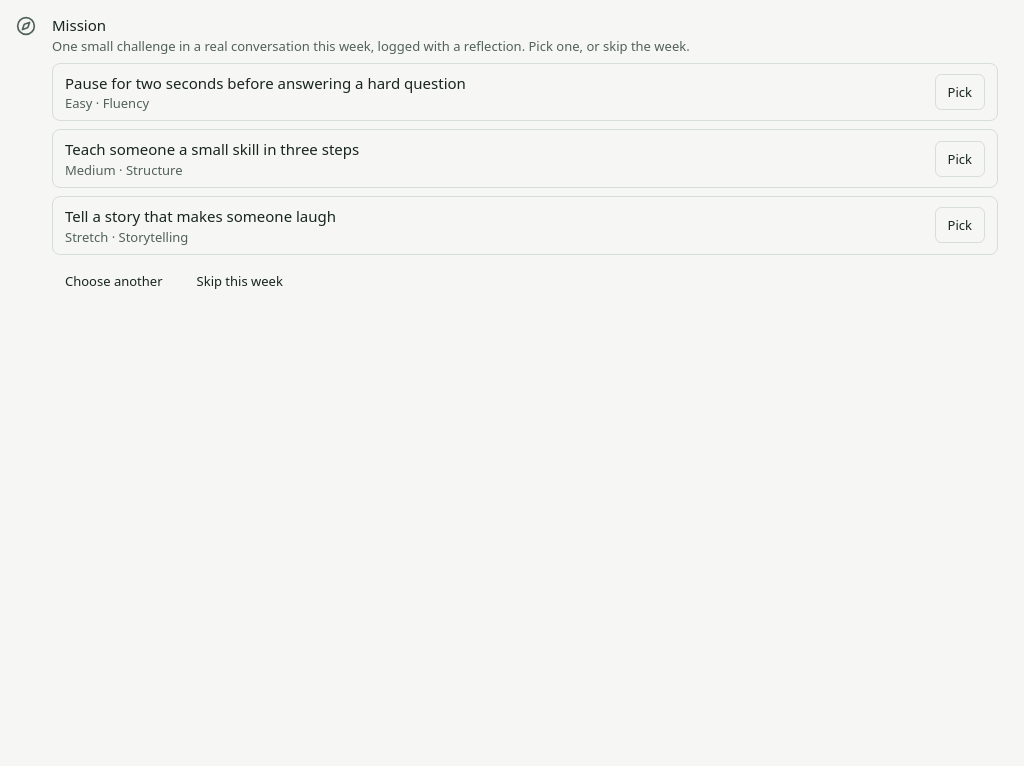
Scenario: this week's mission (14.1) › prefills the reflection form
Click the button "Pick" in the row of "Medium": (960, 159) [935,141,985,177]
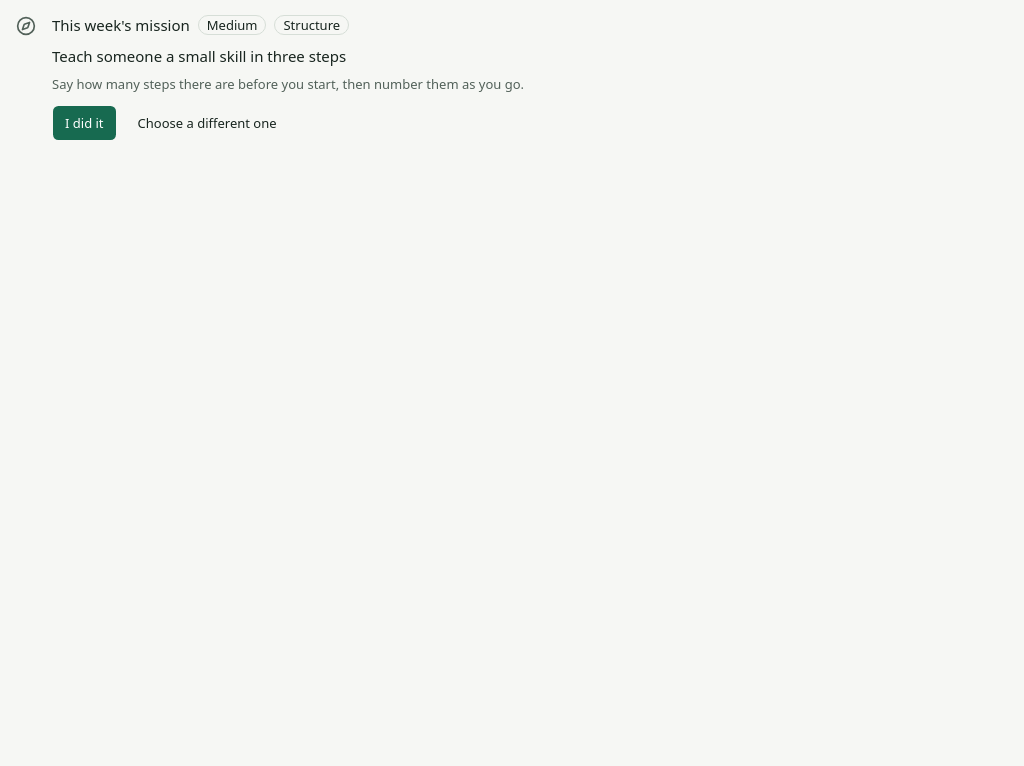
Now the text "Say how many steps there are before you start, then number them as you go." is shown, box [52,75,524,93]
Click the link "I did it": (84, 123) [52,105,117,141]
(page scrolled)
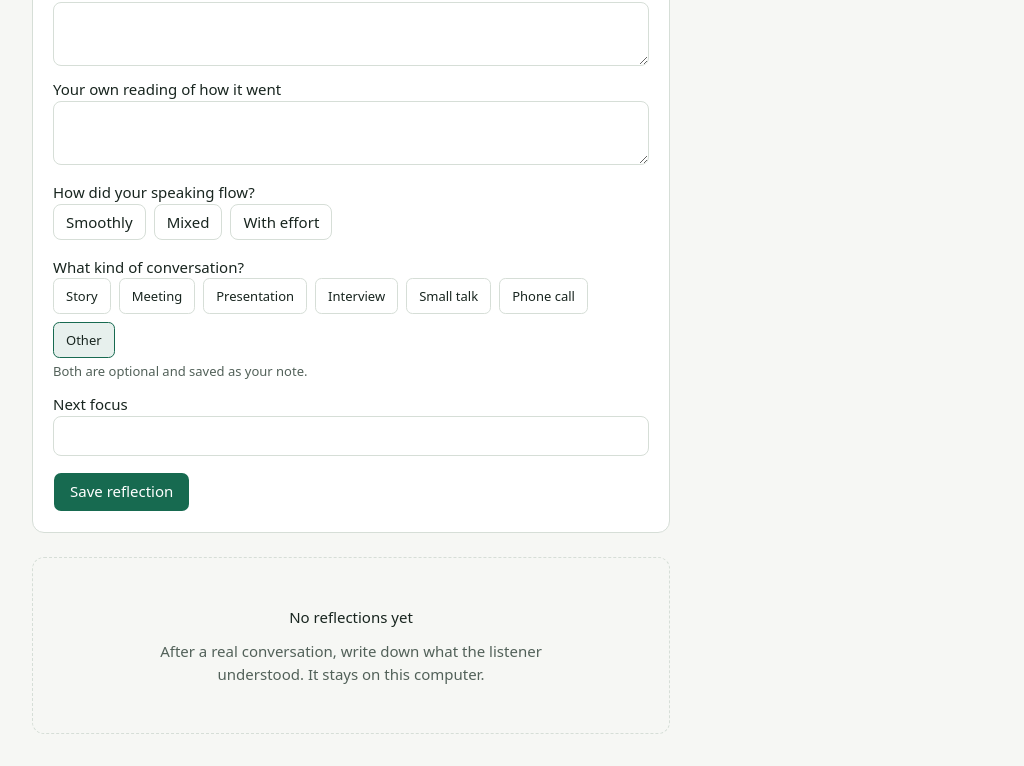
Click the button "Save reflection": (122, 492) [53,472,190,512]
(page scrolled)
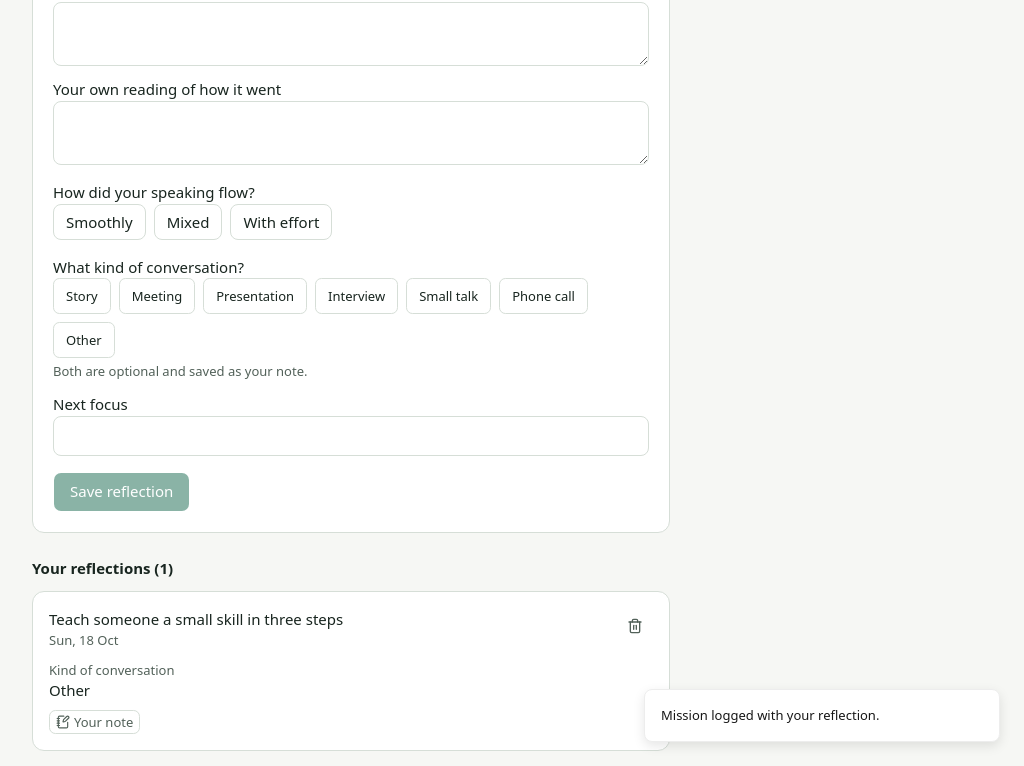
Now the text "Mission logged with your reflection." is shown, box [661,706,879,725]
